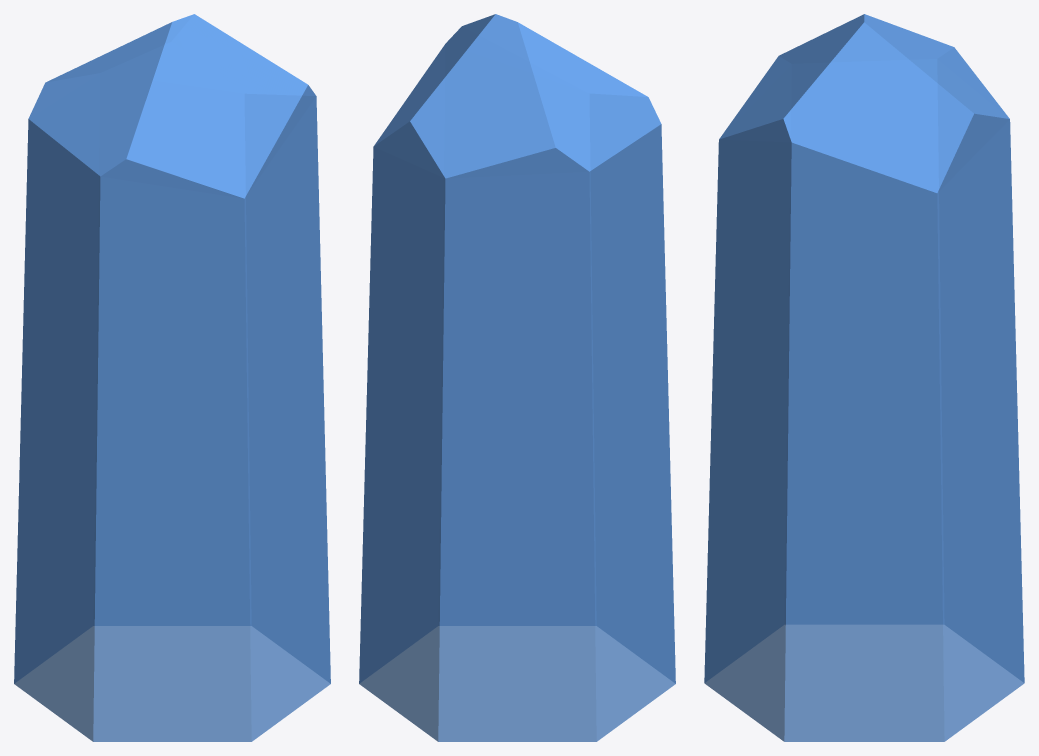
File: Crystal_m_03.fbx
3 views of the same model, side by side, from view 1: azimuth 30°, elevation 25°; view 2: azimuth 150°, elevation 25°; view 3: azimuth 270°, elevation 25° (orthographic).
Visible parts, largest first — view 1: Crystal_m_03; view 2: Crystal_m_03; view 3: Crystal_m_03.
Boxes of the visible parts, x1,y1,x2,y2 form: Crystal_m_03: (14, 14, 330, 741); Crystal_m_03: (359, 14, 675, 741); Crystal_m_03: (704, 14, 1024, 741).
Bounding box in the file's own units: 41.61 × 111 × 48.05.
